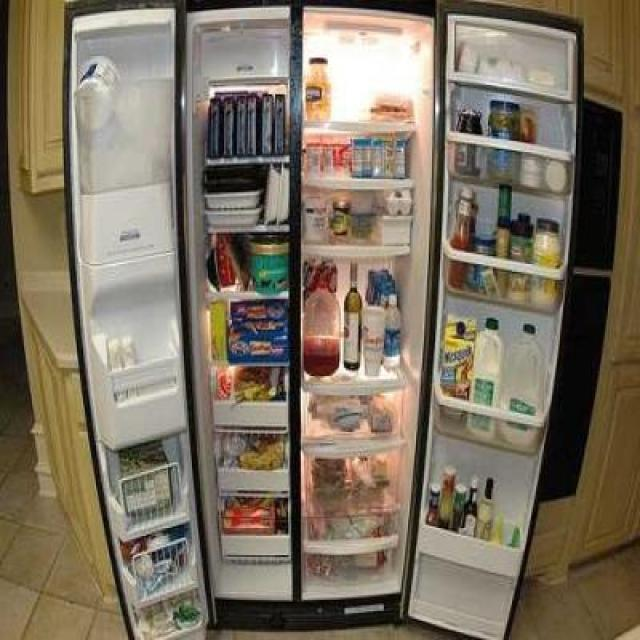refrigerator: (75, 0, 594, 640)
